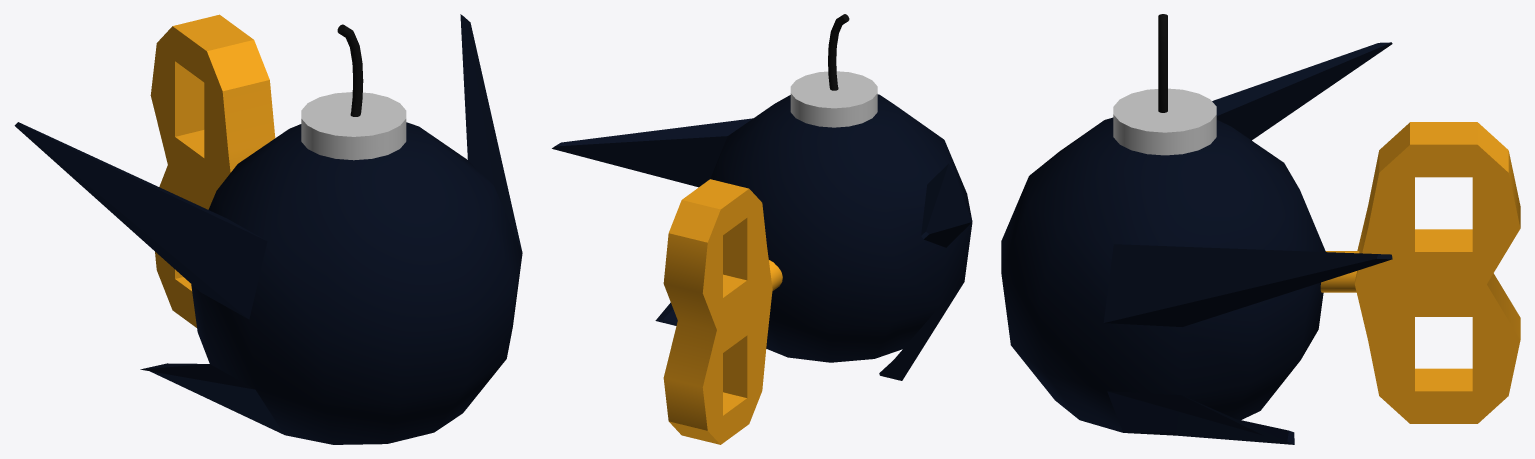
File: Enemy03.FBX
3 views of the same model, side by side, from view 1: azimuth 30°, elevation 25°; view 2: azimuth 150°, elevation 25°; view 3: azimuth 270°, elevation 25° (orthographic). The views are drawn at different scales.
Parts seen in each view (by area): view 1: Sphere004, Cylinder013, Cylinder012, Line001; view 2: Sphere004, Cylinder013, Cylinder012, Line001; view 3: Sphere004, Cylinder013, Cylinder012, Line001.
Boxes of the visible parts, left/top/right/bottom form: Sphere004: left=14, top=14, right=522, bottom=444; Cylinder013: left=150, top=14, right=275, bottom=327; Cylinder012: left=301, top=92, right=406, bottom=160; Line001: left=337, top=24, right=363, bottom=116; Sphere004: left=552, top=94, right=972, bottom=380; Cylinder013: left=663, top=179, right=782, bottom=444; Cylinder012: left=790, top=71, right=877, bottom=127; Line001: left=828, top=14, right=849, bottom=90; Sphere004: left=1001, top=42, right=1392, bottom=444; Cylinder013: left=1320, top=122, right=1520, bottom=423; Cylinder012: left=1113, top=88, right=1216, bottom=155; Line001: left=1158, top=14, right=1167, bottom=112.
Size of the model in its own units: 113 by 99.43 by 115.
